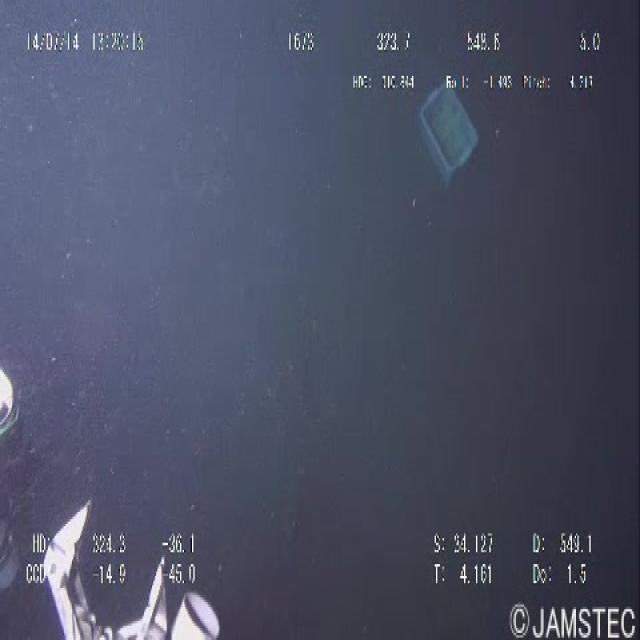plastic: (409, 69, 480, 187)
